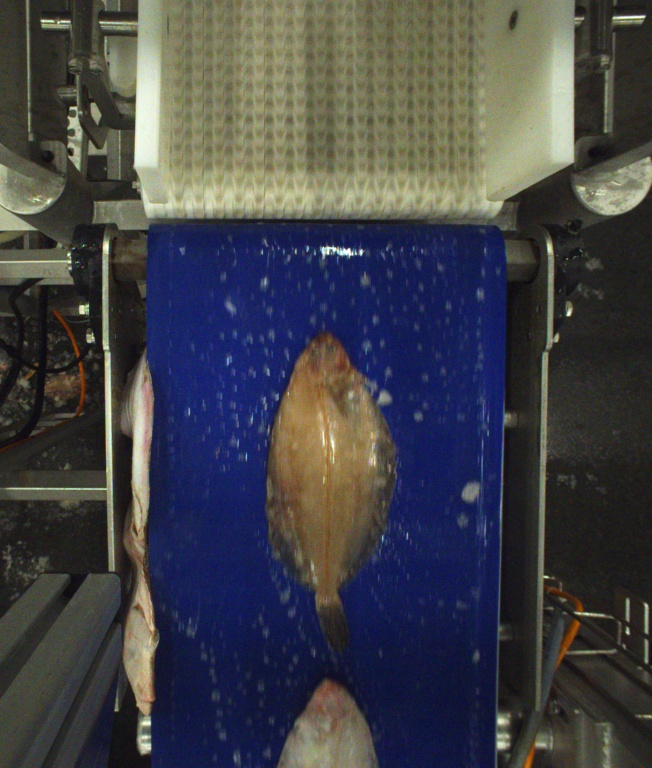WIT: (271, 335, 399, 660)
